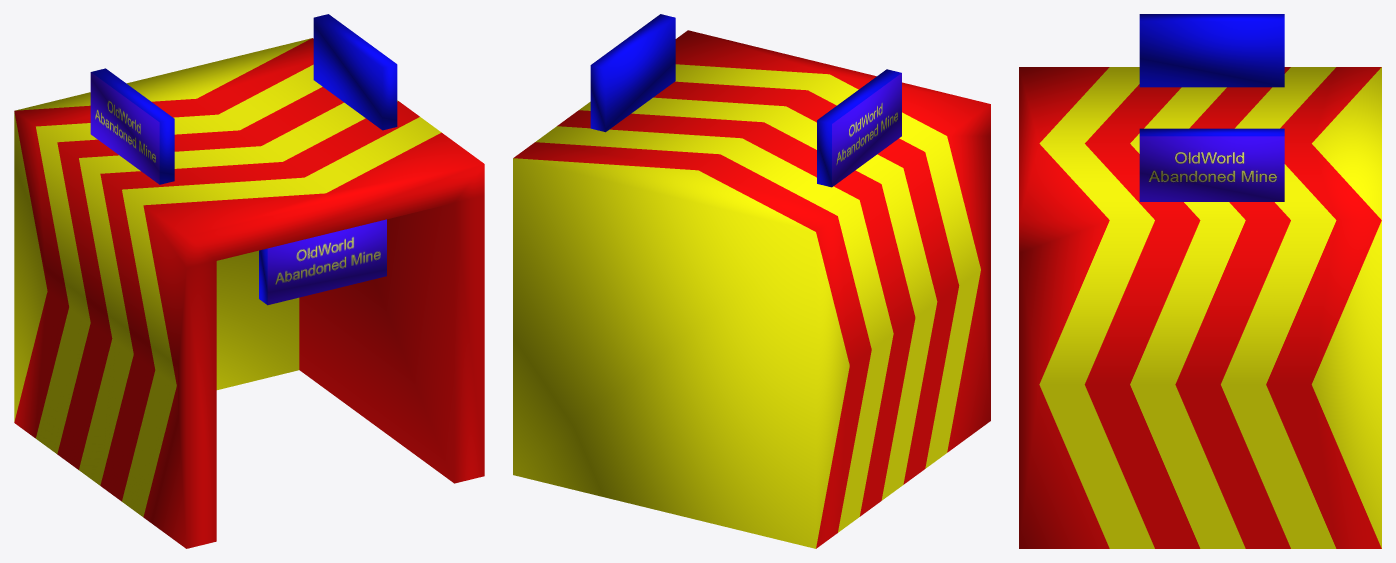
Rendered from NW_ABANDONEDMINE_BETA.glb.
3 renders of one model, left to right at view 1: azimuth 30°, elevation 25°; view 2: azimuth 150°, elevation 25°; view 3: azimuth 270°, elevation 25°, orthographic. The views are drawn at different scales.
Visible parts, largest first — view 1: Mesh; view 2: Mesh; view 3: Mesh.
Boxes of the visible parts, box(x1,y1,x2,y2) form: Mesh: box(14, 14, 484, 548); Mesh: box(513, 14, 990, 548); Mesh: box(1019, 14, 1381, 548).
Size of the model in its own units: 5 by 6.04 by 5.
4 materials, 1 textured.
